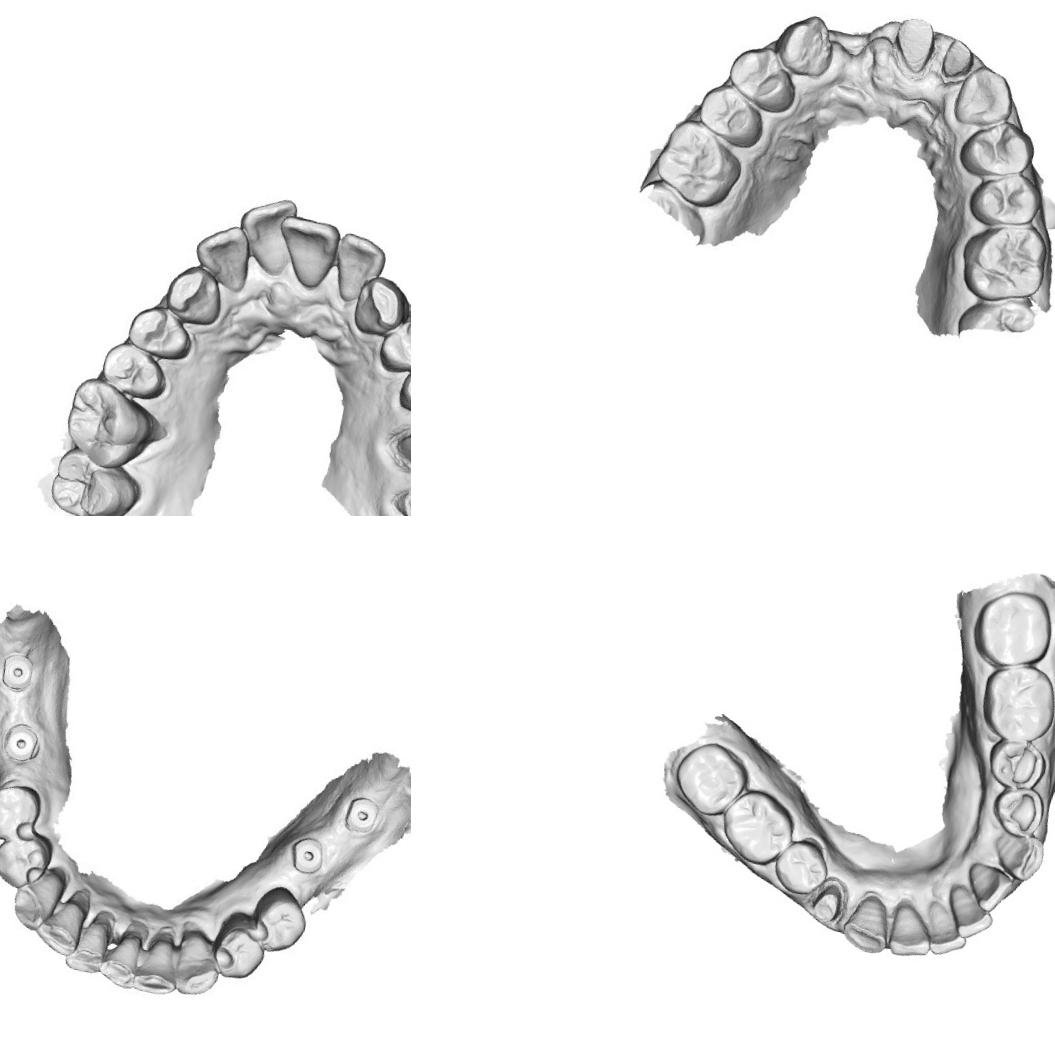canine: (772, 9, 841, 82), (948, 59, 1016, 132), (346, 269, 411, 340), (6, 863, 67, 938), (838, 889, 900, 958), (162, 263, 227, 327), (983, 826, 1048, 888), (170, 928, 224, 999)
crown: (886, 5, 943, 80), (804, 873, 850, 929), (934, 36, 982, 89)
implant: (0, 645, 45, 705), (282, 827, 333, 877), (0, 715, 44, 767), (340, 790, 386, 836)
incisor: (266, 210, 341, 296), (229, 188, 300, 276), (190, 217, 260, 294), (328, 230, 390, 304), (129, 925, 184, 1005), (62, 904, 115, 979), (97, 916, 148, 992), (940, 881, 1000, 945), (884, 898, 941, 963), (38, 886, 90, 957), (918, 898, 974, 963), (960, 859, 1019, 918)
molar: (55, 372, 160, 476), (648, 114, 753, 214), (955, 214, 1053, 311), (967, 581, 1055, 676), (972, 652, 1055, 751), (666, 734, 756, 824), (712, 782, 802, 871), (41, 442, 148, 516)
premolar: (721, 41, 806, 118), (961, 162, 1050, 234), (953, 110, 1036, 183), (688, 80, 768, 151), (92, 336, 173, 405), (122, 298, 198, 366), (981, 731, 1053, 799), (768, 831, 836, 902), (204, 912, 270, 983), (248, 884, 311, 954), (987, 781, 1055, 844), (0, 778, 46, 846), (0, 831, 52, 889), (375, 309, 411, 381), (394, 347, 411, 419)
